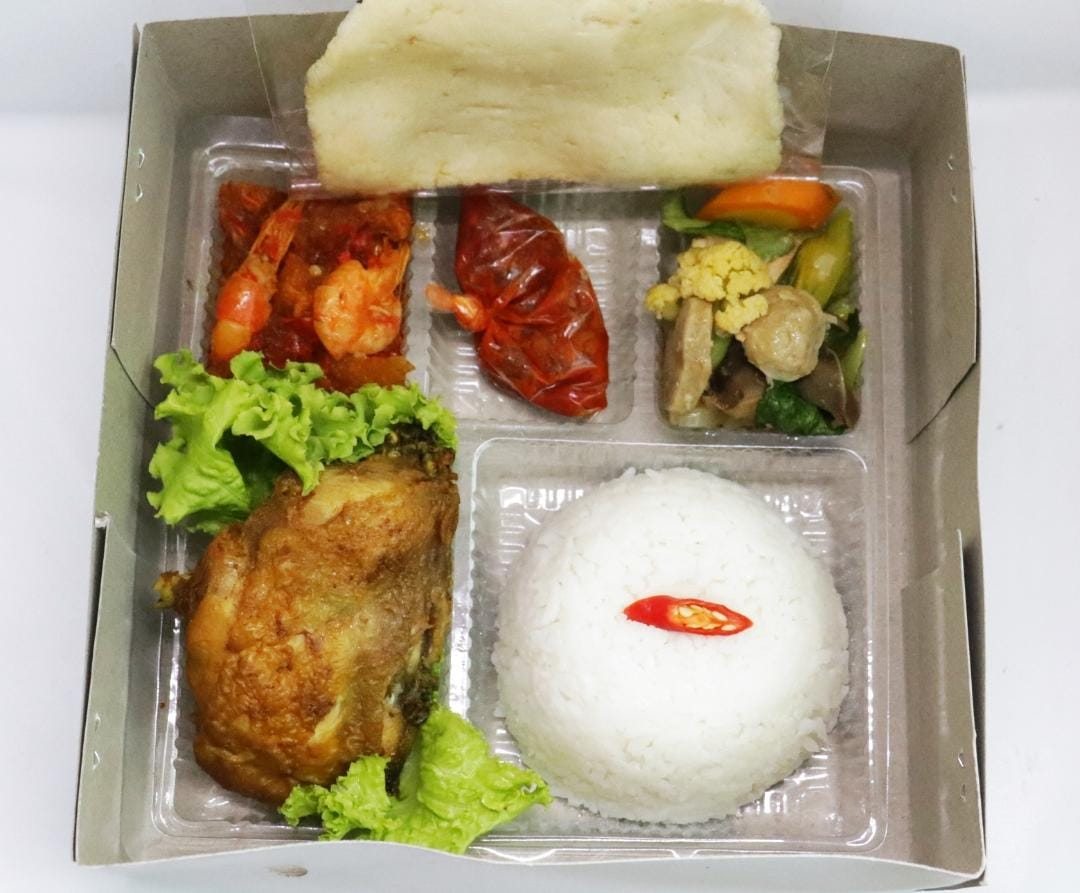buah_sayur_lainnya: (662, 269, 817, 430), (180, 401, 335, 445)
buah_sayur_vitA: (464, 241, 586, 343), (729, 190, 819, 220)
daging: (250, 505, 396, 750), (242, 246, 392, 335)
makanan_berpati: (537, 531, 783, 779), (410, 31, 738, 146)
